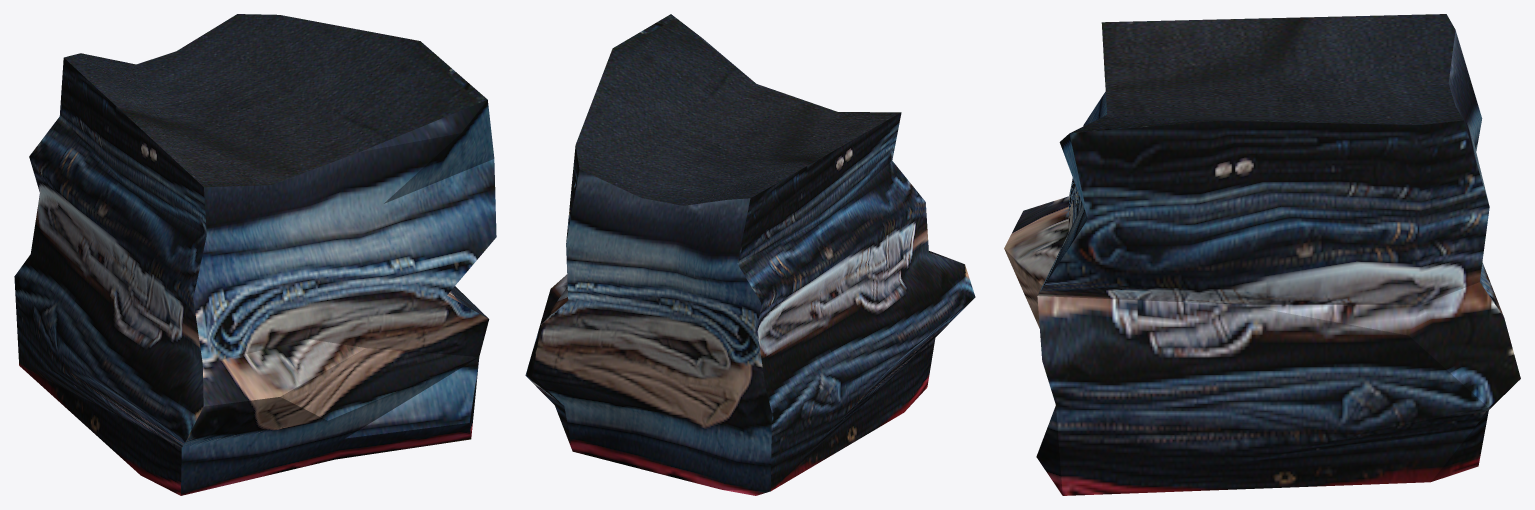
The model's file is shirt_pile-7.FBX.
3 renders of one model, left to right at view 1: azimuth 30°, elevation 25°; view 2: azimuth 150°, elevation 25°; view 3: azimuth 270°, elevation 25°, orthographic. The views are drawn at different scales.
Visible parts, largest first — view 1: Object02; view 2: Object02; view 3: Object02.
Part boxes in pixels (left/top/right/bottom): Object02: left=14, top=14, right=496, bottom=495; Object02: left=525, top=14, right=975, bottom=495; Object02: left=1004, top=14, right=1520, bottom=495.
Bounding box in the file's own units: 19.18 × 18.58 × 22.49.
